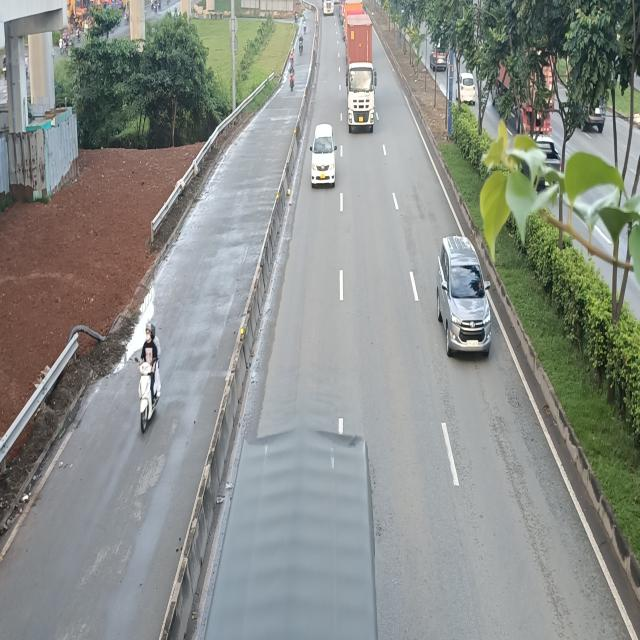car: (439, 236, 494, 358), (309, 124, 337, 189)
container: (345, 9, 377, 135)
